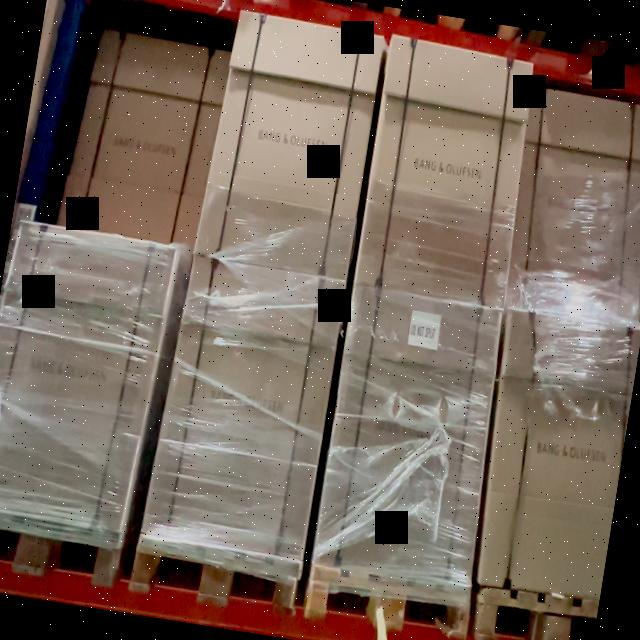box: (146, 258, 350, 544), (310, 290, 508, 576), (203, 7, 384, 282), (349, 43, 530, 307), (504, 95, 640, 319)
